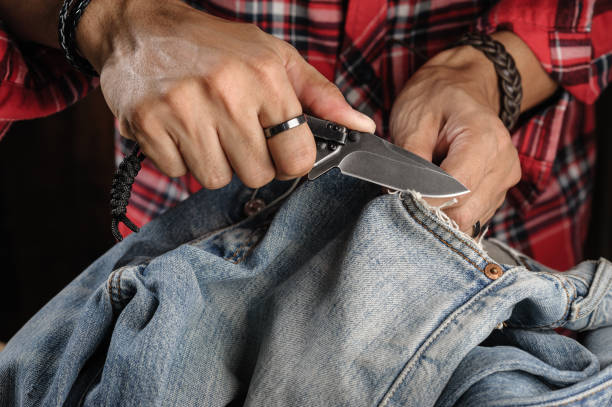knife: (303, 112, 470, 197)
